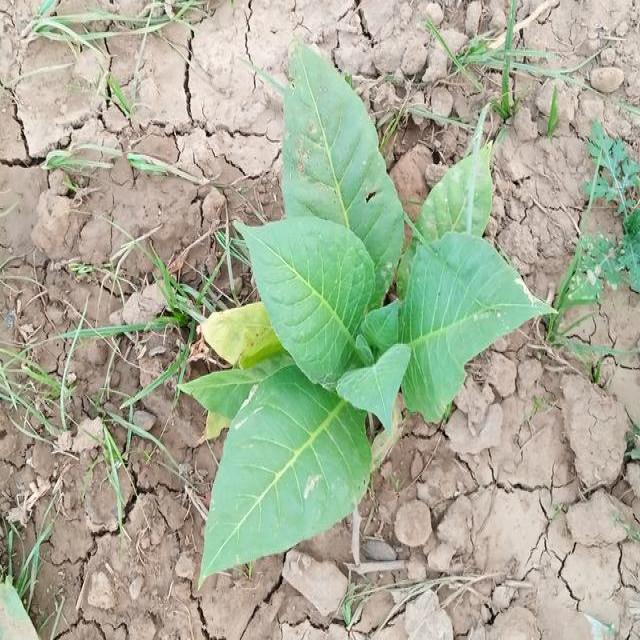crop: (194, 58, 548, 592)
